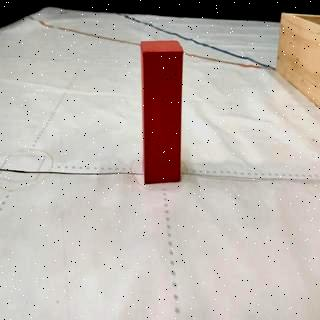redbox: (140, 40, 184, 184)
